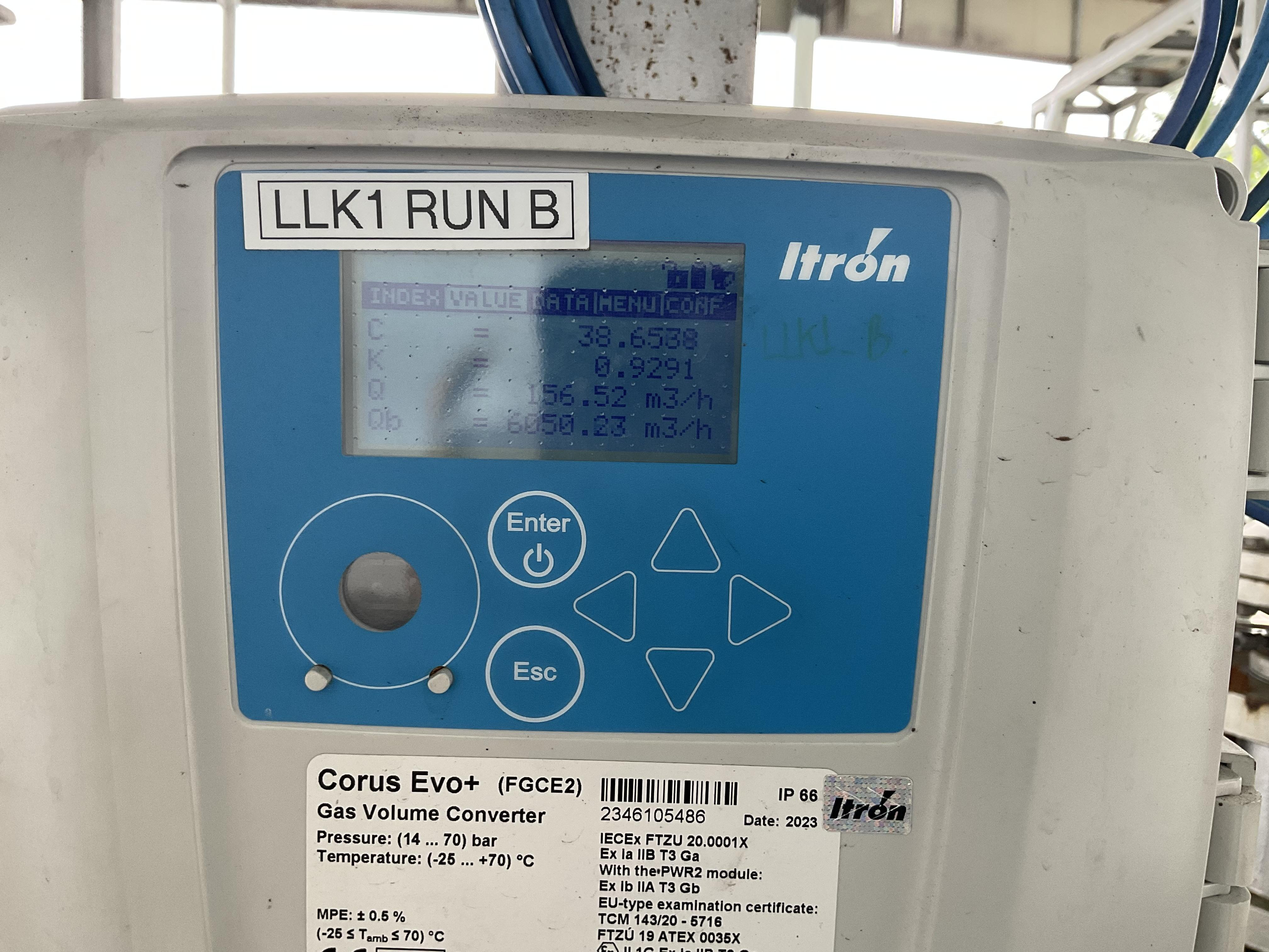digital_screen: (335, 234, 745, 464)
